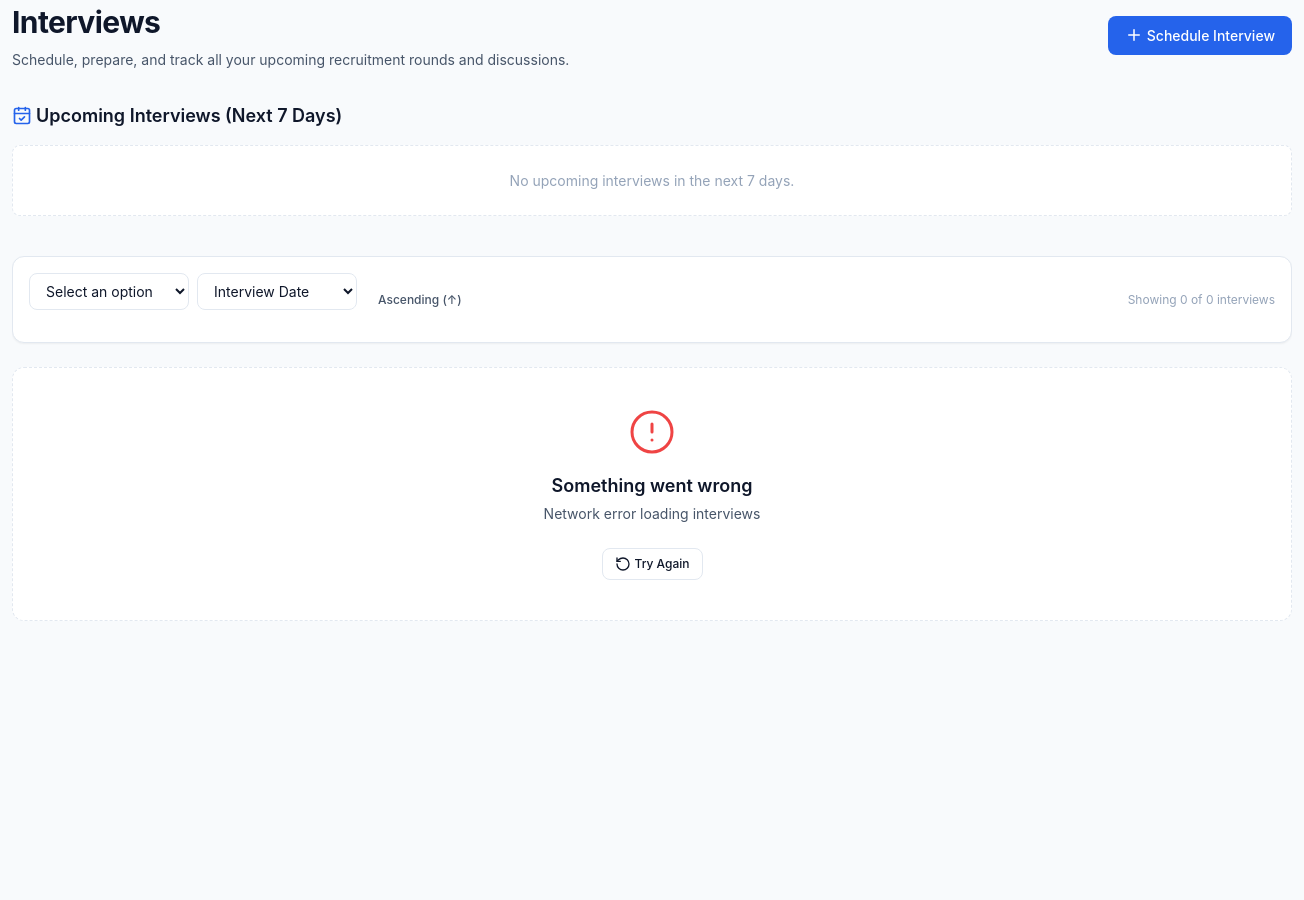
Test: InterviewsPage Component (Phase 6.5E) › 4. displays retryable error state when loading interviews fails
Expected: the text "Network error loading interviews" is shown, [544, 503, 760, 524]
Click the button "Try Again" at (652, 564), box [602, 548, 702, 580]
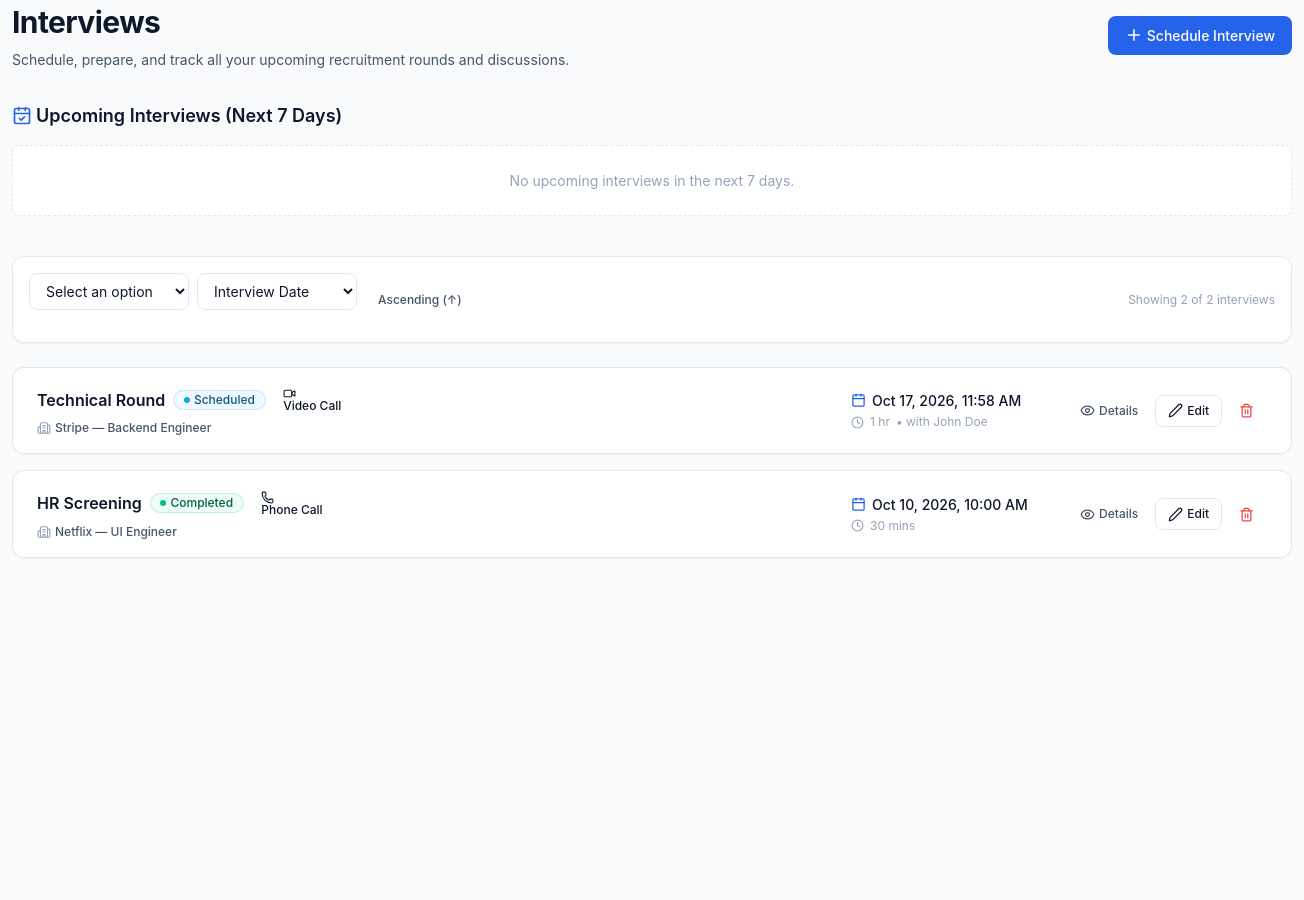
Expected: the element with test id "interview-row-intv-001" is shown, [12, 367, 1292, 454]
